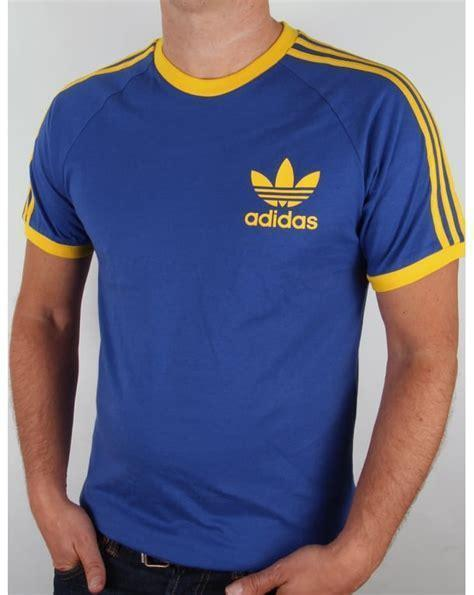Tshirt: (17, 35, 468, 570)
